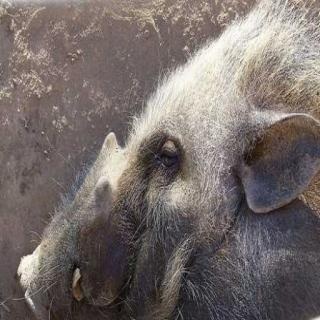Pig: (15, 1, 320, 320)
